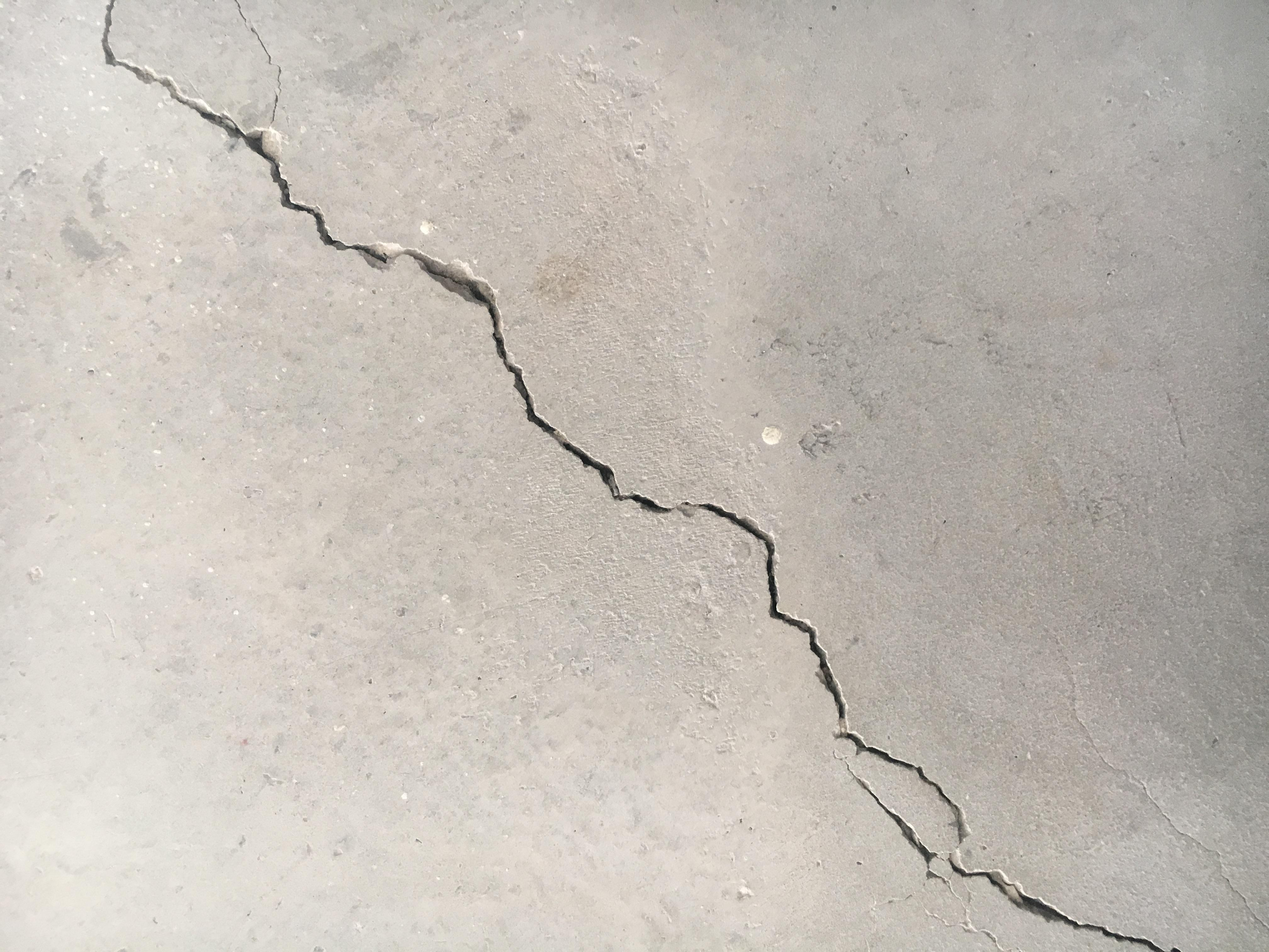Diagonal Crack: (96, 1, 1177, 949)
